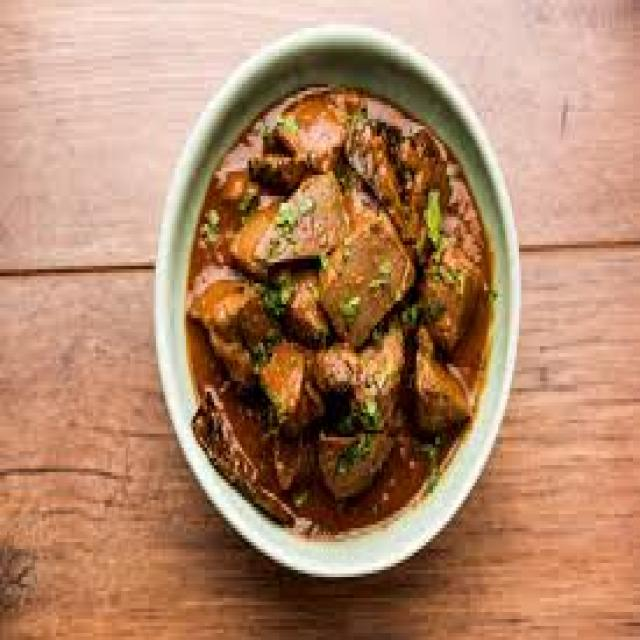Kamouniya: (186, 86, 491, 533)
